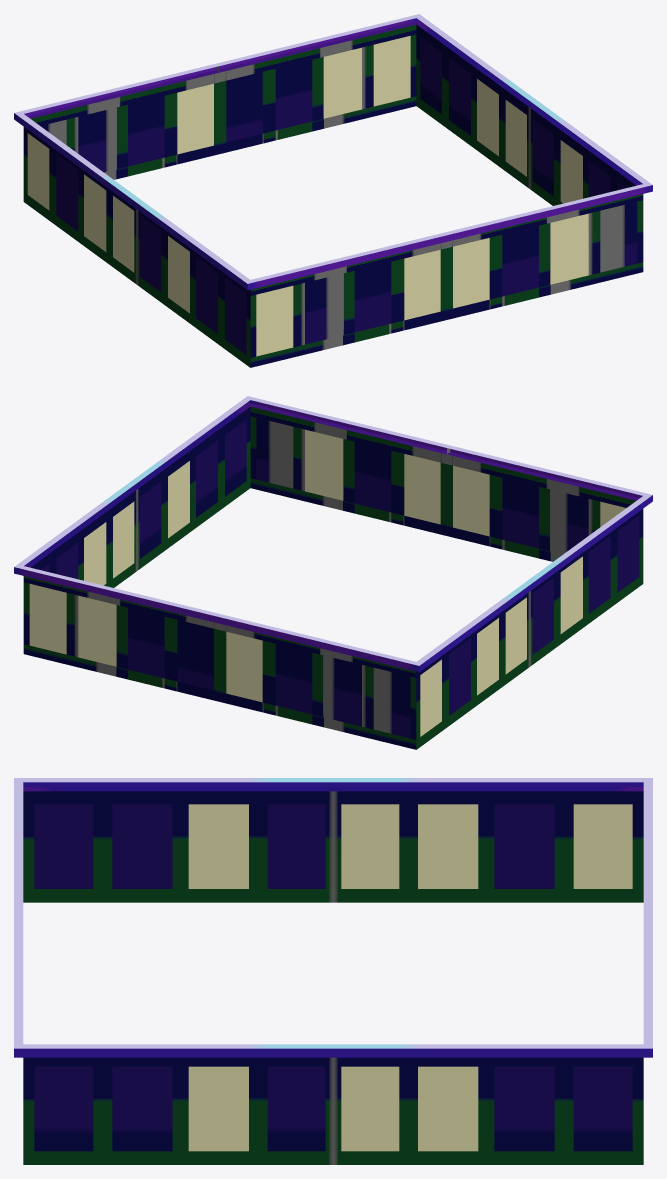
Rendered from 3D_Map_Building-Block.fbx.
3 views of the same model, one above another, from view 1: azimuth 30°, elevation 25°; view 2: azimuth 150°, elevation 25°; view 3: azimuth 270°, elevation 25° (orthographic). The views are drawn at different scales.
Visible parts, largest first — view 1: GEO_Building-Block; view 2: GEO_Building-Block; view 3: GEO_Building-Block.
Part boxes in pixels (x1,y1,x2,y2): GEO_Building-Block: (14, 14, 652, 367); GEO_Building-Block: (14, 396, 652, 749); GEO_Building-Block: (14, 778, 652, 1164).
Bounding box in the file's own units: 21.67 × 21.64 × 4.5.
